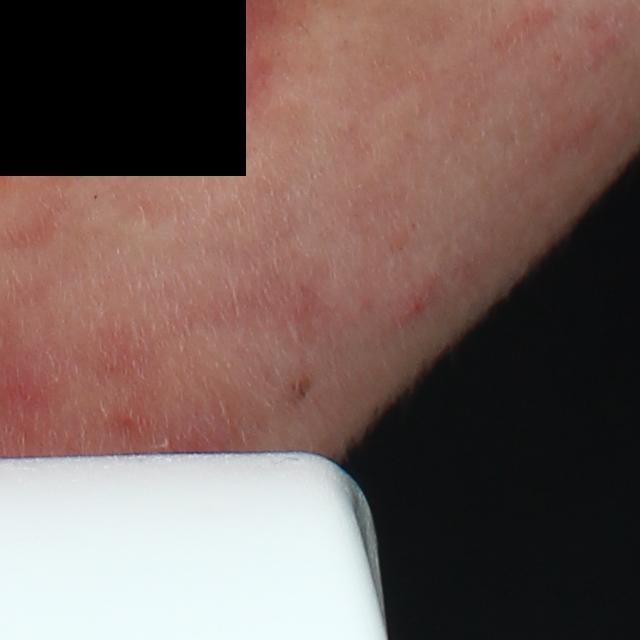nevus: (292, 378, 316, 400)
papule: (400, 288, 432, 323)
